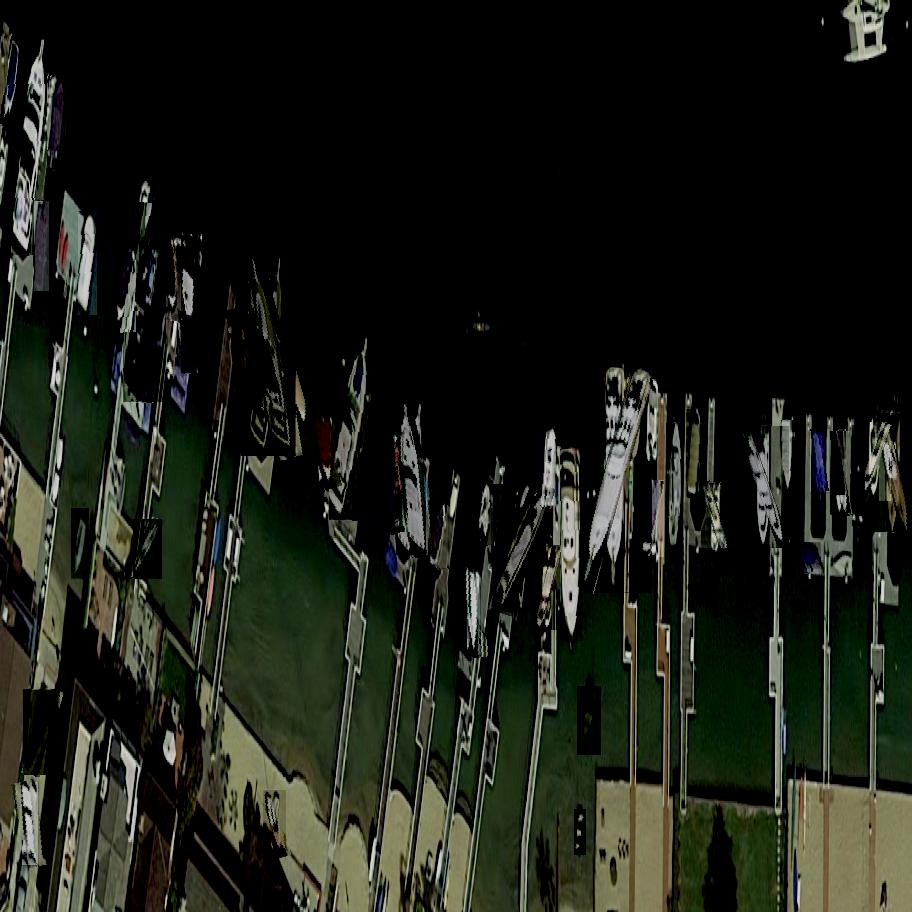ship: (574, 369, 654, 593), (241, 247, 298, 459), (326, 328, 382, 519), (10, 27, 56, 255), (121, 204, 168, 402), (488, 484, 556, 611), (738, 426, 791, 549), (396, 398, 427, 555), (873, 410, 912, 533), (561, 449, 584, 641), (618, 378, 654, 461), (859, 422, 893, 502), (0, 36, 29, 126), (533, 545, 562, 630), (77, 212, 100, 315), (112, 246, 138, 332), (236, 307, 258, 408), (666, 423, 683, 551), (701, 481, 731, 553), (488, 508, 522, 570), (182, 236, 197, 373), (47, 76, 69, 168), (131, 520, 165, 579), (640, 480, 665, 559), (831, 430, 854, 515), (312, 408, 335, 491), (578, 686, 604, 754), (262, 789, 286, 857), (541, 425, 560, 510), (686, 409, 704, 498), (428, 501, 451, 569), (70, 508, 92, 578), (163, 233, 180, 320), (34, 202, 50, 291), (852, 425, 866, 525), (466, 565, 481, 655), (383, 448, 397, 533), (811, 428, 829, 493), (282, 352, 294, 437), (479, 480, 492, 545), (782, 421, 793, 492), (797, 540, 821, 572), (574, 809, 586, 855), (833, 552, 852, 578)
small-vehicle: (19, 690, 64, 775), (22, 782, 39, 866)
